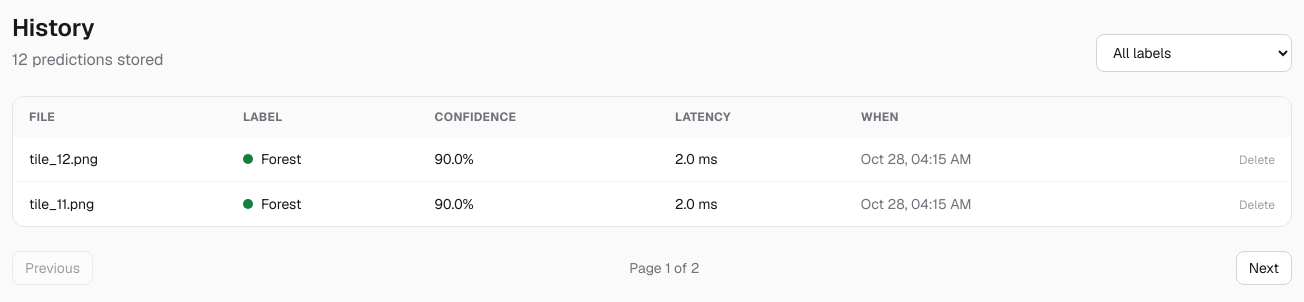
lists predictions and pages forward
Expected: the text "tile_12.png" is shown, [13,137,227,182]
Expected: the text "Page 1 of 2" is shown, [629,258,699,278]
Click the button "Next".
click(1264, 268)  # box [1236,251,1292,285]
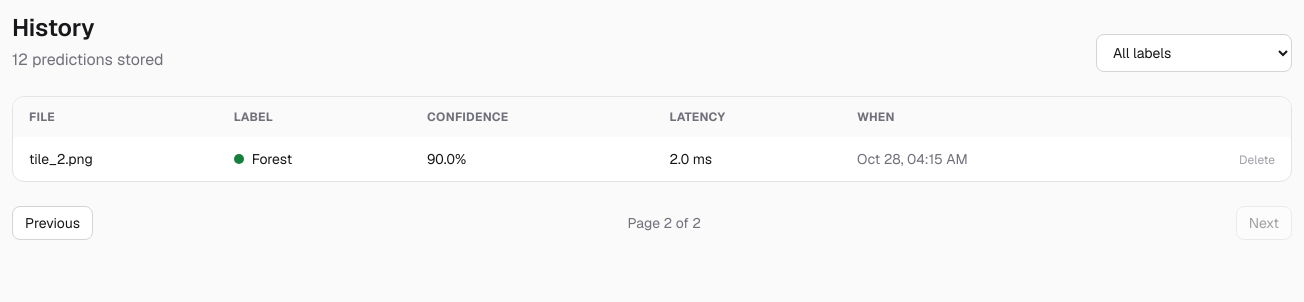
Expected: the text "tile_2.png" is shown, [13,137,218,181]
